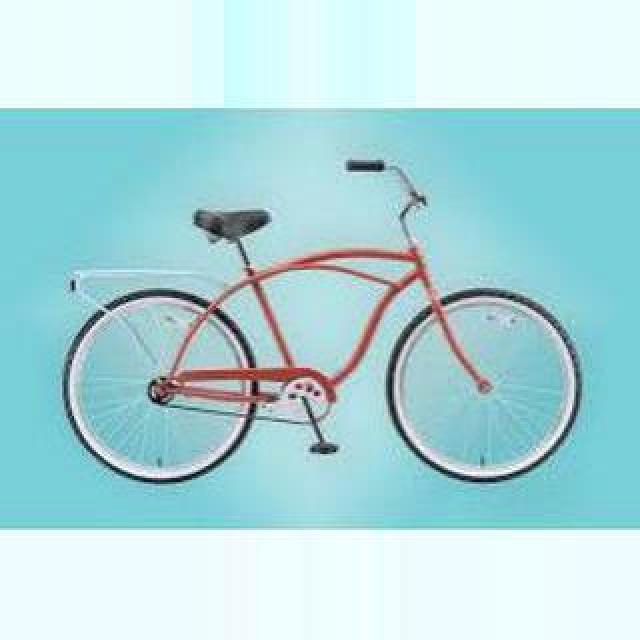Person: (64, 157, 584, 487)
